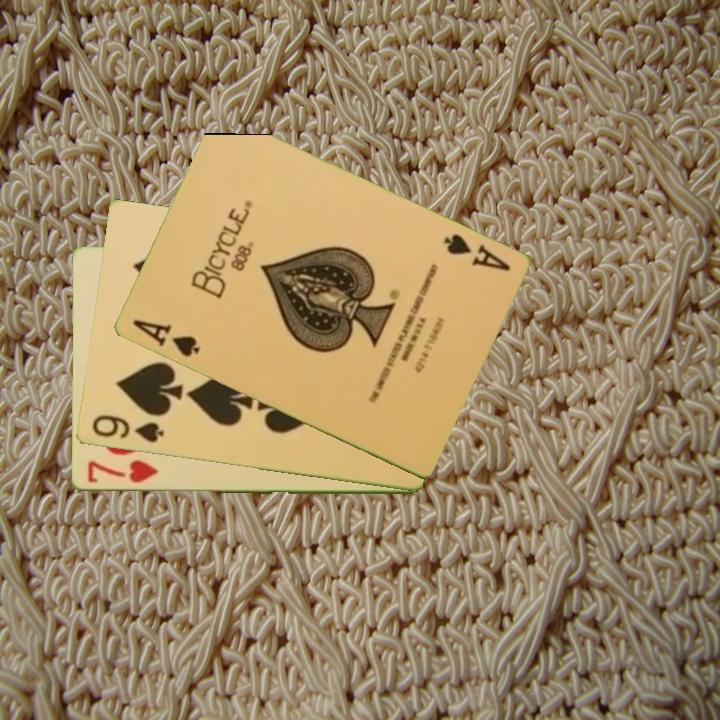7h: (83, 457, 160, 486)
9s: (88, 411, 167, 446)
As: (128, 315, 202, 360), (439, 230, 513, 275)
